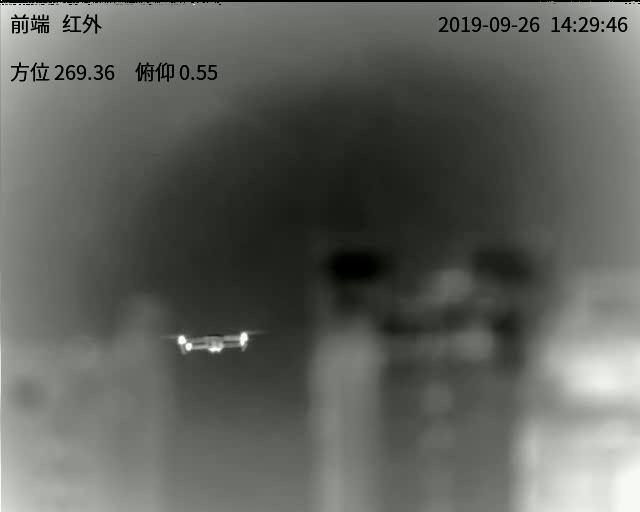DRONE: (177, 329, 253, 357)
